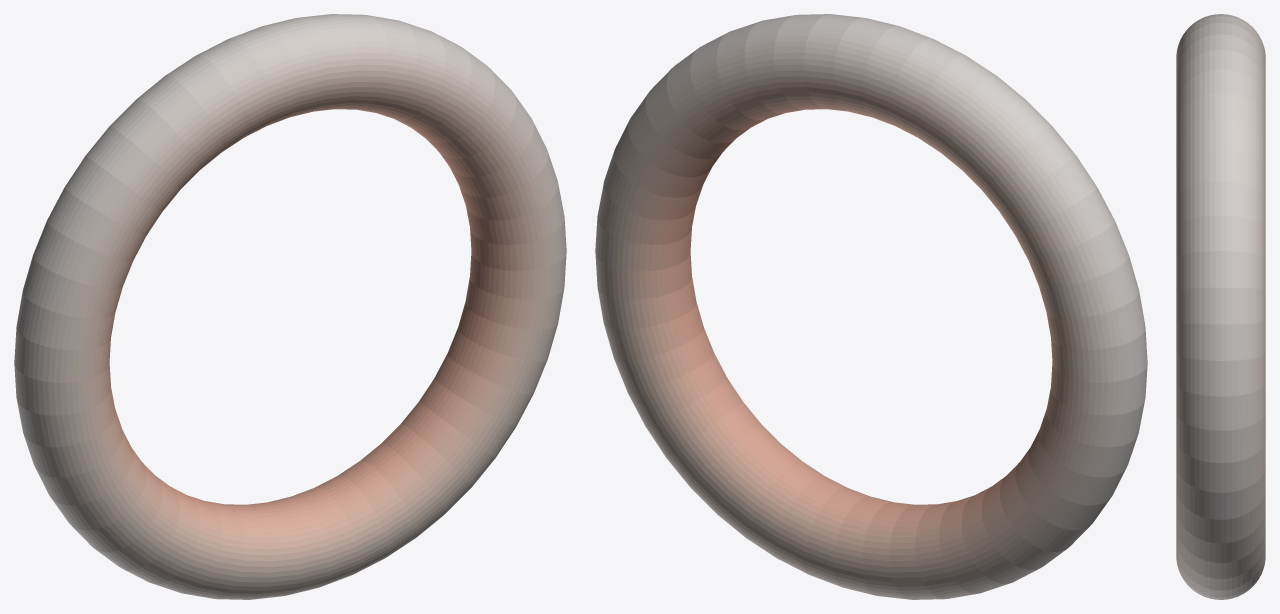
The picture shows the model from 3 angles, left to right: view 1: azimuth 30°, elevation 25°; view 2: azimuth 150°, elevation 25°; view 3: azimuth 270°, elevation 25°; orthographic projection. The views are drawn at different scales.
Visible parts, largest first — view 1: world; view 2: world; view 3: world.
Part boxes in pixels (x1=…): world: x1=14, y1=14, x2=566, y2=599; world: x1=595, y1=14, x2=1147, y2=599; world: x1=1176, y1=14, x2=1265, y2=599.
Bounding box in the file's own units: 32.27 × 32.2 × 4.92.
